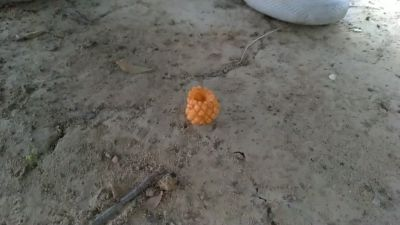eggs: (184, 84, 218, 129)
